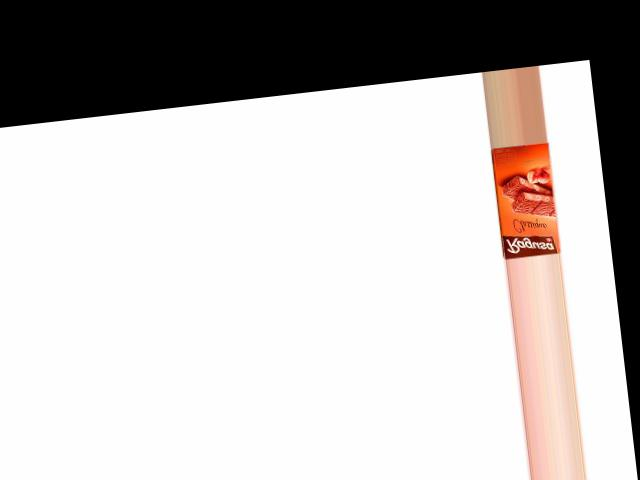chocolate: (487, 140, 567, 258)
